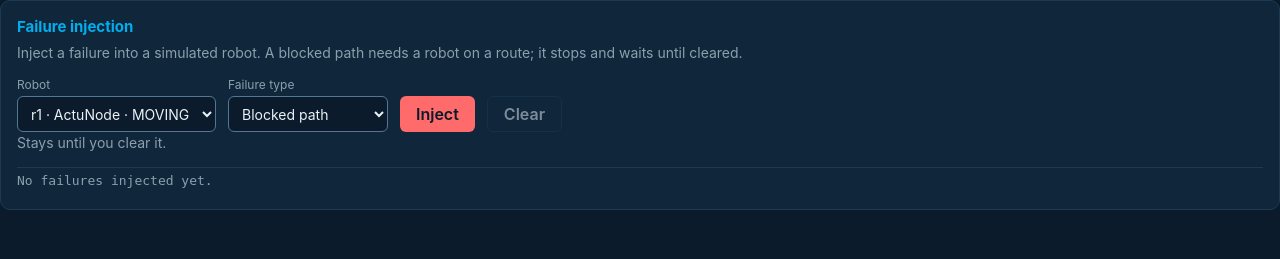
Test: screen reader announcements › puts action results in status and errors in alert
The width and height of the screenshot is (1280, 259).
Click the button "Inject".
click(437, 114)  # box top-left (400, 96), bottom-right (475, 132)
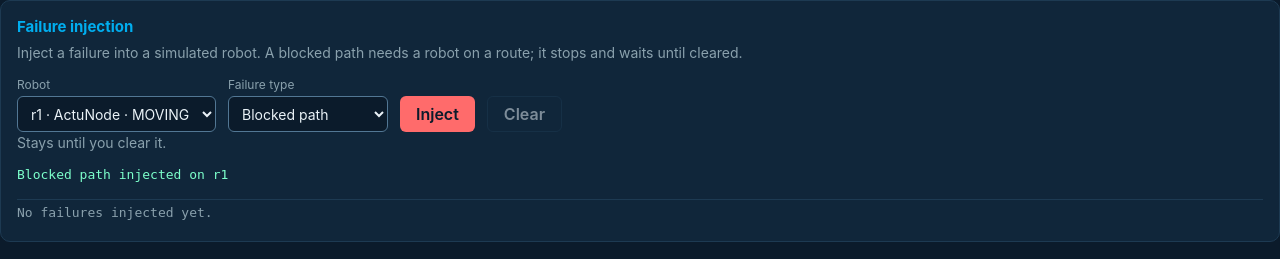
Expected: the message shows "injected on", top-left (17, 167), bottom-right (228, 182)
Click the button "Inject".
click(437, 114)  # box top-left (400, 96), bottom-right (475, 132)
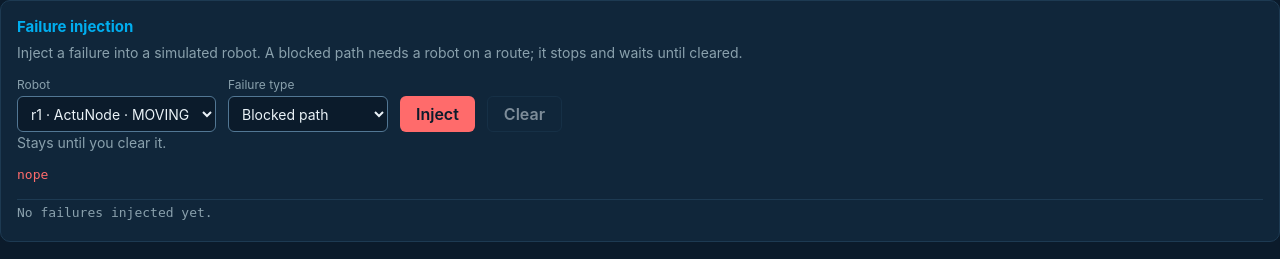
Expected: the message reads "nope", top-left (17, 167), bottom-right (48, 182)
